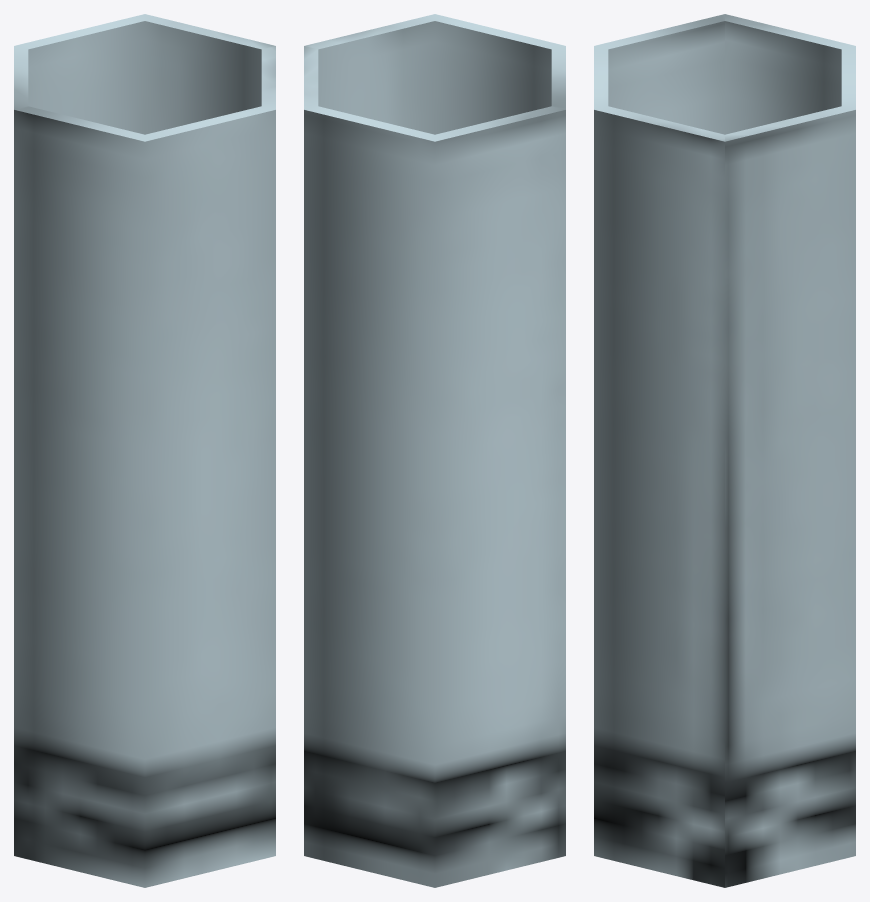
File: EmptyGlassV2.fbx
The picture shows the model from 3 angles, left to right: view 1: azimuth 30°, elevation 25°; view 2: azimuth 150°, elevation 25°; view 3: azimuth 270°, elevation 25°; orthographic projection.
Parts seen in each view (by area): view 1: Glasses; view 2: Glasses; view 3: Glasses.
Boxes of the visible parts, bbox=[...] form: Glasses: bbox=[14, 14, 275, 887]; Glasses: bbox=[304, 14, 565, 887]; Glasses: bbox=[594, 14, 855, 887].
Size of the model in its own units: 0.1028 by 0.2801 by 0.089.
